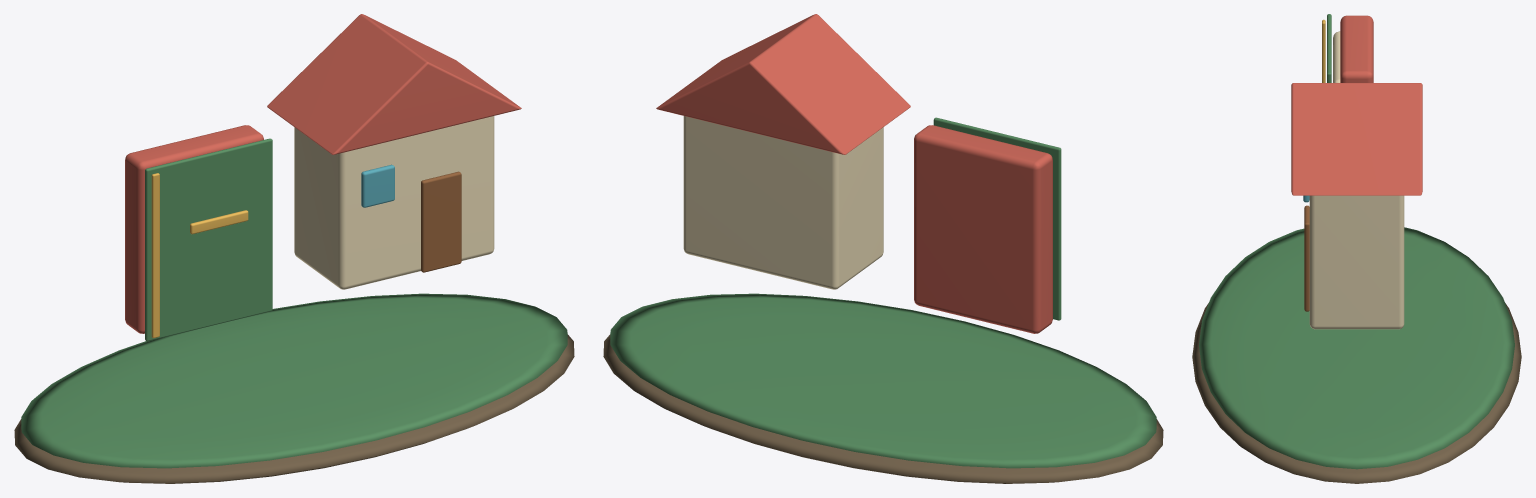
File: school-books.glb
The picture shows the model from 3 angles, left to right: view 1: azimuth 30°, elevation 25°; view 2: azimuth 150°, elevation 25°; view 3: azimuth 270°, elevation 25°; orthographic projection. The views are drawn at different scales.
Parts seen in each view (by area): view 1: school-books_surface_01, school-books_surface_02, school-books_surface_03, school-books_surface_00, school-books_surface_05, school-books_surface_04, school-books_surface_06; view 2: school-books_surface_01, school-books_surface_02, school-books_surface_03, school-books_surface_00; view 3: school-books_surface_01, school-books_surface_02, school-books_surface_03, school-books_surface_00, school-books_surface_05.
Part boxes in pixels (x1,y1,x2,y2): school-books_surface_01: [21, 138, 567, 468]; school-books_surface_02: [125, 14, 521, 333]; school-books_surface_03: [294, 116, 494, 289]; school-books_surface_00: [14, 334, 574, 483]; school-books_surface_05: [421, 171, 461, 272]; school-books_surface_04: [151, 173, 248, 338]; school-books_surface_06: [361, 164, 394, 207]; school-books_surface_01: [610, 117, 1156, 468]; school-books_surface_02: [656, 14, 1052, 333]; school-books_surface_03: [683, 116, 883, 289]; school-books_surface_00: [603, 334, 1163, 483]; school-books_surface_01: [1199, 14, 1514, 469]; school-books_surface_02: [1291, 15, 1422, 195]; school-books_surface_03: [1309, 31, 1404, 329]; school-books_surface_00: [1192, 303, 1521, 483]; school-books_surface_05: [1304, 205, 1309, 311].
Size of the model in its own units: 4.56 by 2.82 by 2.5.
